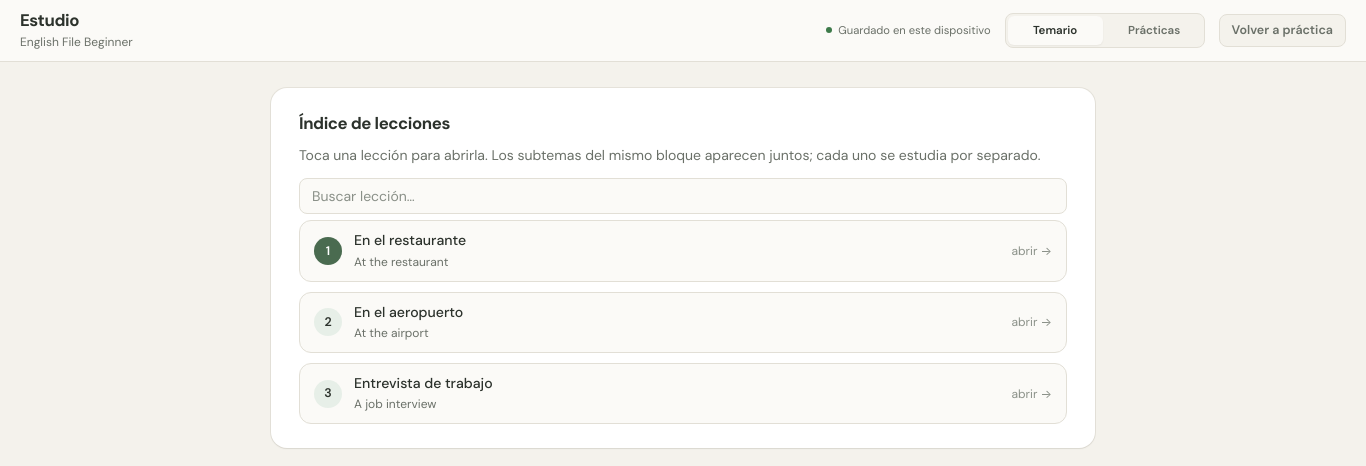
Test case: StudyScreen › moves to the next lesson and back with previous
The image size is (1366, 466).
Click the button with class "indice-fila" that starts with "En el restaurante" at x=352, y=260, box [299,220,1067,282]
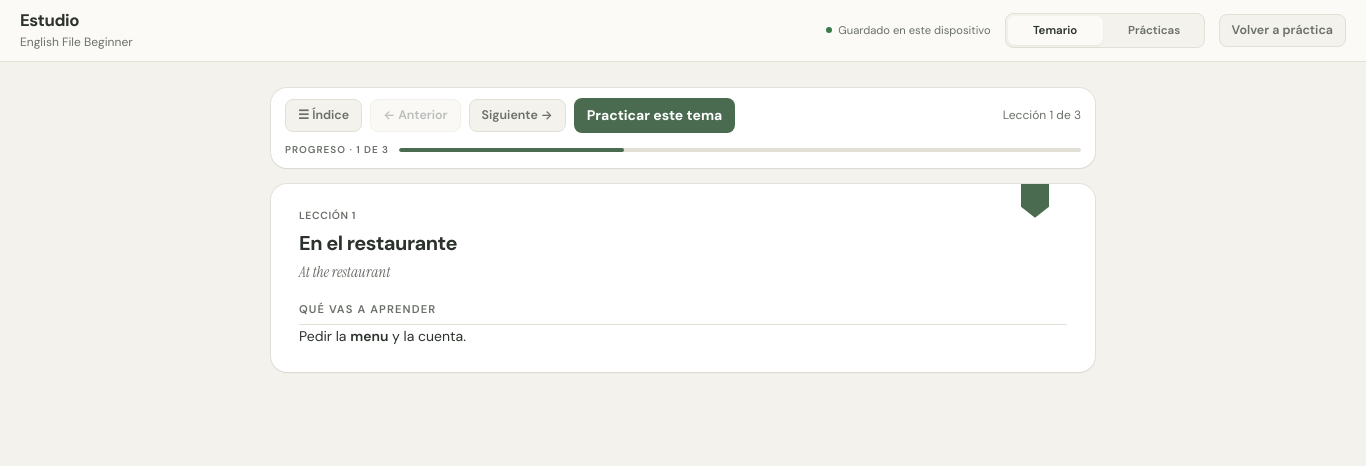
Click the button "Siguiente →" at x=517, y=115, box [469,99,566,132]
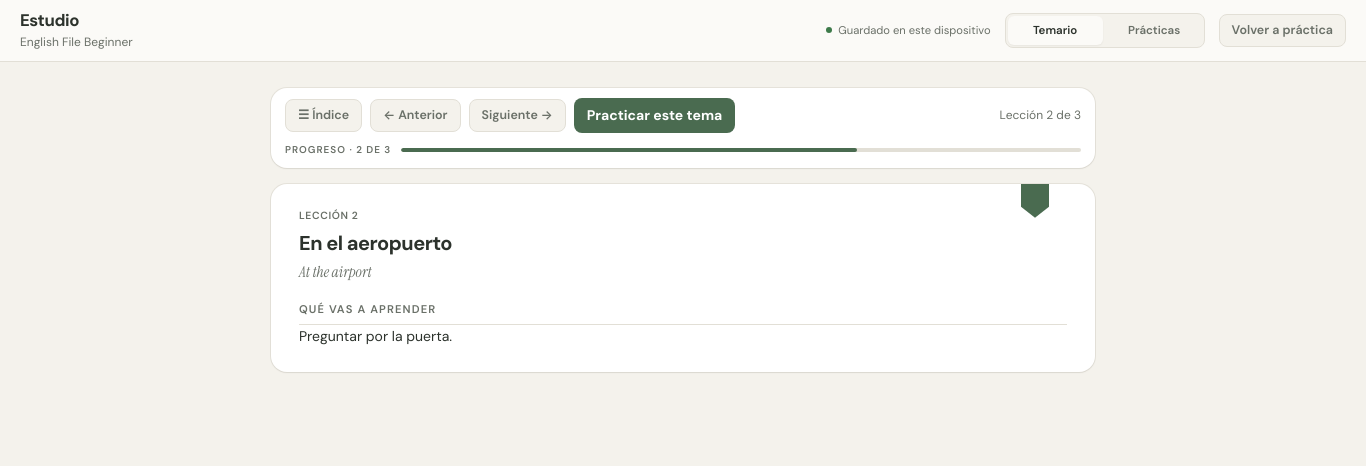
Click the button "← Anterior" at x=415, y=115, box [370,99,461,132]
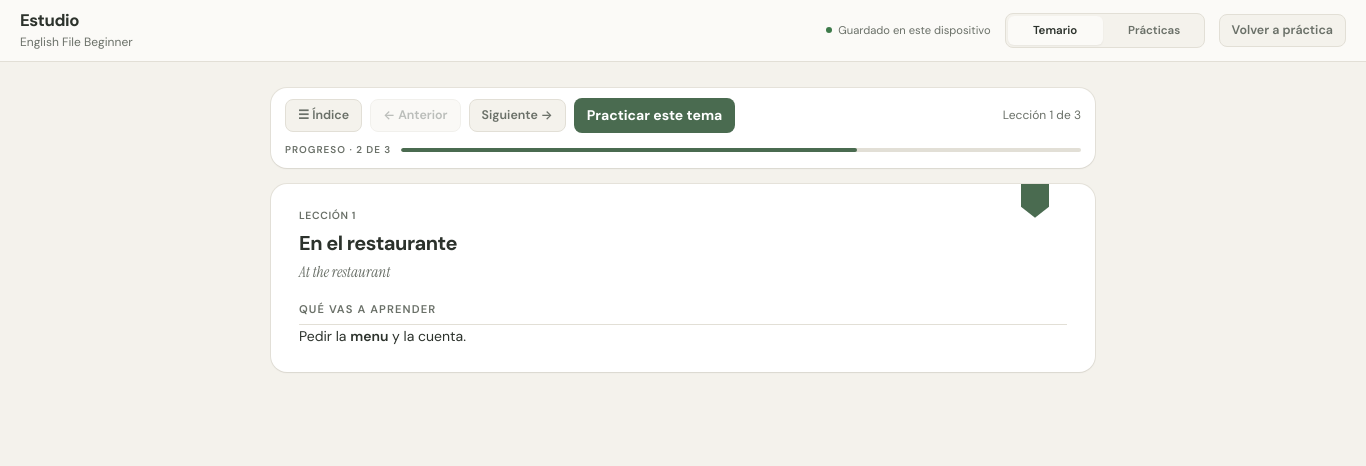
Now the heading "En el restaurante" is shown, box [299,230,457,256]
